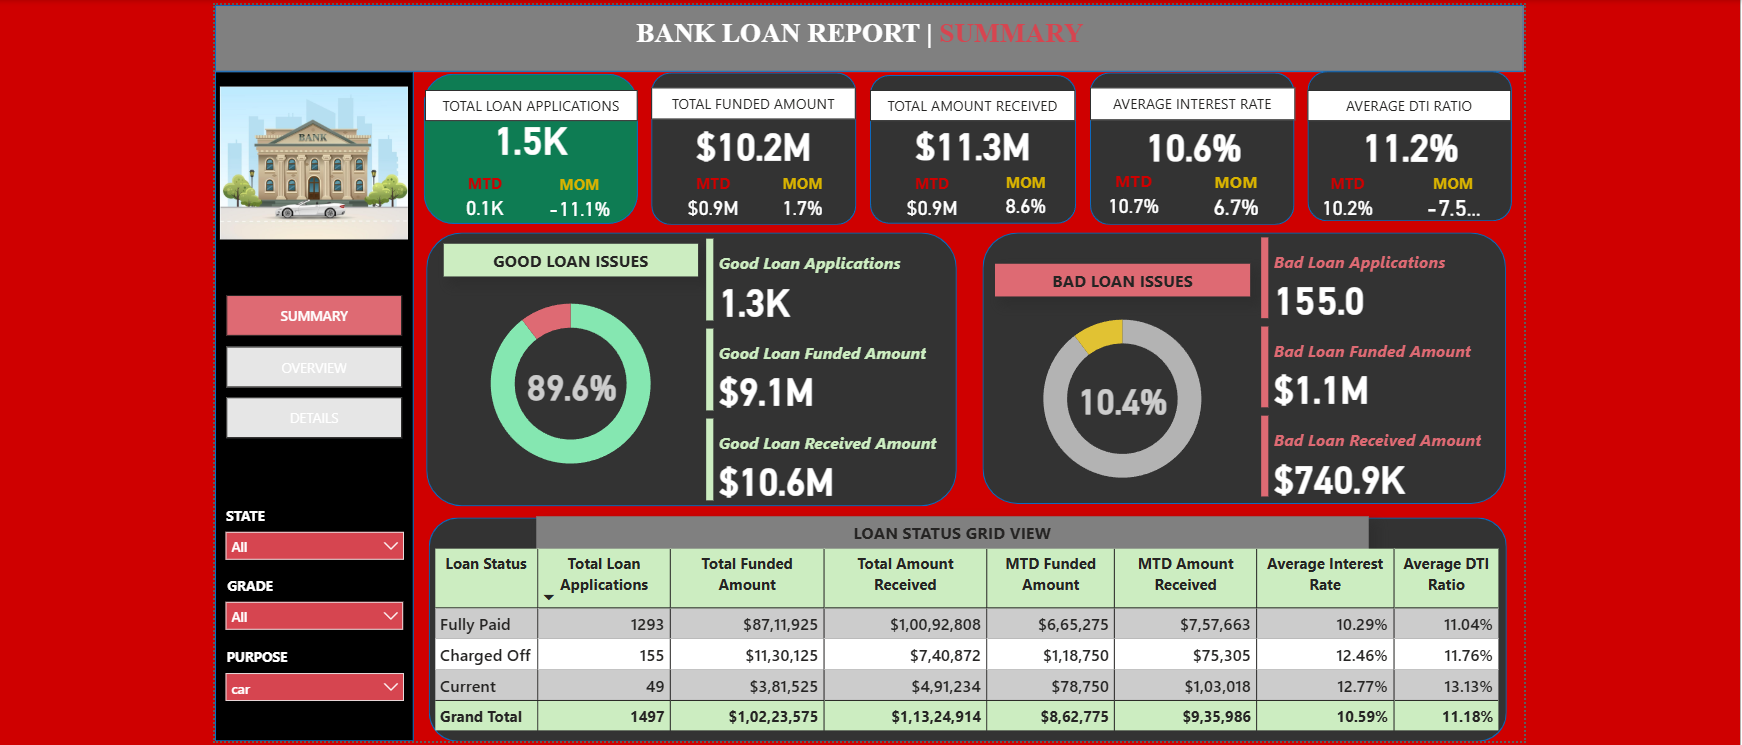

Layout of this report page (visuals, bound fields, positions):
{"tool":"powerbi","page":{"name":"SUMMARY","canvas":[1280,720],"ordinal":0},"visuals":[{"type":"shape","box":[0,64.8,194.4,655.4],"z":0},{"type":"shape","box":[1069.3,65,200,146.7],"z":0,"group":"g7"},{"type":"shape","box":[855.6,65.8,200,149.2],"z":0,"group":"g8"},{"type":"shape","box":[204.1,67.5,209.5,147],"z":0,"group":"g2"},{"type":"shape","box":[207,222.9,519,267.7],"z":0,"group":"g6"},{"type":"shape","box":[0,0,1280.3,65.4],"z":1000},{"type":"shape","box":[426.8,65.8,200.5,149.2],"z":1000,"group":"g5"},{"type":"card","fields":{"Values":["bank financial_loan.Total Loan Applications"]},"box":[204.2,107.9,209.5,45.2],"z":1000,"group":"g2"},{"type":"card","fields":{"Values":["bank financial_loan.AVERAGE DTI RATIO"]},"box":[1069.3,113.9,201.8,45.4],"z":1000,"group":"g7"},{"type":"card","fields":{"Values":["bank financial_loan.AVERAGE INTEREST RATE"]},"box":[858,114.2,198.1,43.4],"z":1000,"group":"g8"},{"type":"textbox","box":[407.5,7.5,463.8,48.8],"z":2000},{"type":"shape","box":[640.7,68.3,201.7,145.5],"z":2000,"group":"g9"},{"type":"textbox","box":[855.6,80.7,200.5,32.3],"z":2000,"group":"g8"},{"type":"textbox","box":[205.3,83.4,207.9,30.6],"z":2000,"group":"g2"},{"type":"textbox","box":[1069.3,83.6,199.3,30],"z":2000,"group":"g7"},{"type":"group","id":"g1","title":"Group 2","box":[855.6,65.8,200.5,149.2],"z":3000},{"type":"card","title":"MTD","fields":{"Values":["bank financial_loan.MTD avg interest rate"]},"box":[865.1,159.5,65.6,47],"z":3000,"group":"g8"},{"type":"card","title":"MTD","fields":{"Values":["bank financial_loan.MTD avg dti ratio"]},"box":[1075.4,164,66,46.6],"z":3000,"group":"g7"},{"type":"card","title":"MTD","fields":{"Values":["bank financial_loan.MTD"]},"box":[221.9,164.1,83,50.1],"z":3000,"group":"g2"},{"type":"textbox","box":[223.5,234.5,248.7,31.7],"z":3000,"group":"g6"},{"type":"card","fields":{"Values":["bank financial_loan.total funded amount"]},"box":[426.8,111.8,200.5,46],"z":4000,"group":"g5"},{"type":"card","title":"MOM","fields":{"Values":["bank financial_loan.MOM avg interest rate"]},"box":[965.1,160.6,65.6,47],"z":4000,"group":"g8"},{"type":"card","title":"MOM","fields":{"Values":["bank financial_loan.MOM avg dti ratio"]},"box":[1179.4,164,64.8,46.6],"z":4000,"group":"g7"},{"type":"card","title":"MOM","fields":{"Values":["bank financial_loan.MOM LOAN APPLICATIONS"]},"box":[314.4,165.3,84.3,50.1],"z":4000,"group":"g2"},{"type":"donutChart","fields":{"Category":["bank financial_loan.Good Vs Bad Loans"],"Y":["bank financial_loan.Total Loan Applications"]},"box":[223.5,268.8,248.7,205.6],"z":4000,"group":"g6"},{"type":"textbox","box":[1.2,486,57,29.7],"z":4000},{"type":"card","fields":{"Values":["bank financial_loan.TOTAL AMOUNT RECEIVED"]},"box":[640.7,114,201.7,43.3],"z":5000,"group":"g9"},{"type":"card","fields":{"Values":["bank financial_loan.Good Loan %"]},"box":[292,344.9,114.2,53.3],"z":5000,"group":"g6"},{"type":"shape","box":[209.5,501.2,1054.7,219.4],"z":5000},{"type":"slicer","fields":{"Values":["bank financial_loan.address_state"]},"box":[0,504.6,194.6,50.8],"z":6000},{"type":"textbox","box":[427.3,80,200,31.5],"z":7000,"group":"g5"},{"type":"textbox","box":[314.8,500.7,814.3,32.2],"z":7000},{"type":"group","id":"g2","title":"Group 2","box":[204.1,67.5,209.4,148],"z":8000},{"type":"textbox","box":[640.6,82.9,201.1,30.5],"z":8000,"group":"g9"},{"type":"shape","box":[751,223.1,512.1,265.6],"z":8000,"group":"g4"},{"type":"group","id":"g3","title":"Group 2","box":[1069.3,65,201.8,146.7],"z":9000},{"type":"card","title":"MTD","fields":{"Values":["bank financial_loan.MTD funded amount"]},"box":[447.6,164,79.5,51],"z":9000,"group":"g5"},{"type":"textbox","box":[763.7,253.3,249.6,31.9],"z":9000,"group":"g4"},{"type":"card","title":"MTD","fields":{"Values":["bank financial_loan.MTD AMOUNT RECEIVED"]},"box":[661.6,163.3,79.9,49.3],"z":10000,"group":"g9"},{"type":"donutChart","fields":{"Category":["bank financial_loan.Good Vs Bad Loans"],"Y":["bank financial_loan.Total Loan Applications"]},"box":[763.7,284.1,249.6,203.3],"z":10000,"group":"g4"},{"type":"textbox","box":[1.3,554.2,66,30.5],"z":10000},{"type":"group","id":"g4","title":"Group 8","box":[751,223.1,526.7,266.5],"z":10001,"group":"g10"},{"type":"card","title":"MOM","fields":{"Values":["bank financial_loan.MoM funded amount"]},"box":[534.4,164,80.7,51],"z":11000,"group":"g5"},{"type":"card","fields":{"Values":["bank financial_loan.Bad Loan %"]},"box":[830.7,359.9,115.5,52.7],"z":11000,"group":"g4"},{"type":"slicer","fields":{"Values":["bank financial_loan.grade"]},"box":[0,573.2,194.1,49.5],"z":11000},{"type":"card","title":"MOM","fields":{"Values":["bank financial_loan.MOM AMOUNT RECEIVED"]},"box":[752.6,162.1,79.9,48.1],"z":12000,"group":"g9"},{"type":"cardVisual","fields":{"Data":["bank financial_loan.Bad Loan Applications","bank financial_loan.Bad Loan Funded Amount","bank financial_loan.Bad Loan Received Amount"]},"box":[1018.2,223.7,259.5,265.9],"z":12000,"group":"g4"},{"type":"slicer","fields":{"Values":["bank financial_loan.purpose"]},"box":[0,643.3,194.6,50.8],"z":12000},{"type":"cardVisual","fields":{"Data":["bank financial_loan.Good Loan Applications","bank financial_loan.Good Loan Funded Amount","bank financial_loan.Good Loan Received Amount"]},"box":[476,224.3,258.8,267.7],"z":13000,"group":"g6"},{"type":"textbox","box":[0,623.5,81.8,29.7],"z":13000},{"type":"group","id":"g5","title":"Group 1","box":[426.8,65.8,200.5,149.2],"z":14000},{"type":"group","id":"g6","title":"Group 6","box":[207,222.9,527.9,269.2],"z":15000},{"type":"group","id":"g7","title":"Group 5","box":[1069.3,65,201.8,146.7],"z":15003,"group":"g3"},{"type":"group","id":"g8","title":"Group 4","box":[855.6,65.8,200.5,149.2],"z":15003,"group":"g1"},{"type":"group","id":"g9","title":"Group 3","box":[640.6,68.3,201.8,145.5],"z":16000},{"type":"group","id":"g10","title":"Group 7","box":[751,223.1,526.7,266.5],"z":17000},{"type":"tableEx","fields":{"Values":["bank financial_loan.loan_status","bank financial_loan.Total Loan Applications","bank financial_loan.total funded amount","bank financial_loan.TOTAL AMOUNT RECEIVED","bank financial_loan.MTD funded amount","bank financial_loan.MTD AMOUNT RECEIVED","bank financial_loan.AVERAGE INTEREST RATE","bank financial_loan.AVERAGE DTI RATIO"]},"box":[209.5,526.7,1053.5,192.1],"z":18000},{"type":"pageNavigator","box":[11.4,284.2,172.6,142.1],"z":19000},{"type":"image","box":[0,52,194.1,204.3],"z":20000}]}

Visuals, with their boxes on the page's 1280x720 design canvas (x1, y1, x2, y2). These are canvas units, not pixel positions in the 1742x745 screenshot, which may show the page scaled, cropped or inside an application window:
shape: region(0, 65, 194, 720)
shape: region(1069, 65, 1269, 212)
shape: region(856, 66, 1056, 215)
shape: region(204, 68, 414, 214)
shape: region(207, 223, 726, 491)
shape: region(0, 0, 1280, 65)
shape: region(427, 66, 627, 215)
card - bank financial_loan.Total Loan Applications: region(204, 108, 414, 153)
card - bank financial_loan.AVERAGE DTI RATIO: region(1069, 114, 1271, 159)
card - bank financial_loan.AVERAGE INTEREST RATE: region(858, 114, 1056, 158)
textbox: region(408, 8, 871, 56)
shape: region(641, 68, 842, 214)
textbox: region(856, 81, 1056, 113)
textbox: region(205, 83, 413, 114)
textbox: region(1069, 84, 1269, 114)
"Group 2" group: region(856, 66, 1056, 215)
"MTD" card: region(865, 160, 931, 206)
"MTD" card: region(1075, 164, 1141, 211)
"MTD" card: region(222, 164, 305, 214)
textbox: region(224, 234, 472, 266)
card - bank financial_loan.total funded amount: region(427, 112, 627, 158)
"MOM" card: region(965, 161, 1031, 208)
"MOM" card: region(1179, 164, 1244, 211)
"MOM" card: region(314, 165, 399, 215)
donutChart - bank financial_loan.Good Vs Bad Loans x bank financial_loan.Total Loan Applications: region(224, 269, 472, 474)
textbox: region(1, 486, 58, 516)
card - bank financial_loan.TOTAL AMOUNT RECEIVED: region(641, 114, 842, 157)
card - bank financial_loan.Good Loan %: region(292, 345, 406, 398)
shape: region(210, 501, 1264, 721)
slicer - bank financial_loan.address_state: region(0, 505, 195, 555)
textbox: region(427, 80, 627, 112)
textbox: region(315, 501, 1129, 533)
"Group 2" group: region(204, 68, 414, 216)
textbox: region(641, 83, 842, 113)
shape: region(751, 223, 1263, 489)
"Group 2" group: region(1069, 65, 1271, 212)
"MTD" card: region(448, 164, 527, 215)
textbox: region(764, 253, 1013, 285)
"MTD" card: region(662, 163, 742, 213)
donutChart - bank financial_loan.Good Vs Bad Loans x bank financial_loan.Total Loan Applications: region(764, 284, 1013, 487)
textbox: region(1, 554, 67, 585)
"Group 8" group: region(751, 223, 1278, 490)
"MOM" card: region(534, 164, 615, 215)
card - bank financial_loan.Bad Loan %: region(831, 360, 946, 413)
slicer - bank financial_loan.grade: region(0, 573, 194, 623)
"MOM" card: region(753, 162, 832, 210)
cardVisual - bank financial_loan.Bad Loan Applications x bank financial_loan.Bad Loan Funded Amount: region(1018, 224, 1278, 490)
slicer - bank financial_loan.purpose: region(0, 643, 195, 694)
cardVisual - bank financial_loan.Good Loan Applications x bank financial_loan.Good Loan Funded Amount: region(476, 224, 735, 492)
textbox: region(0, 624, 82, 653)
"Group 1" group: region(427, 66, 627, 215)
"Group 6" group: region(207, 223, 735, 492)
"Group 5" group: region(1069, 65, 1271, 212)
"Group 4" group: region(856, 66, 1056, 215)
"Group 3" group: region(641, 68, 842, 214)
"Group 7" group: region(751, 223, 1278, 490)
tableEx - bank financial_loan.loan_status x bank financial_loan.Total Loan Applications: region(210, 527, 1263, 719)
pageNavigator: region(11, 284, 184, 426)
image: region(0, 52, 194, 256)
